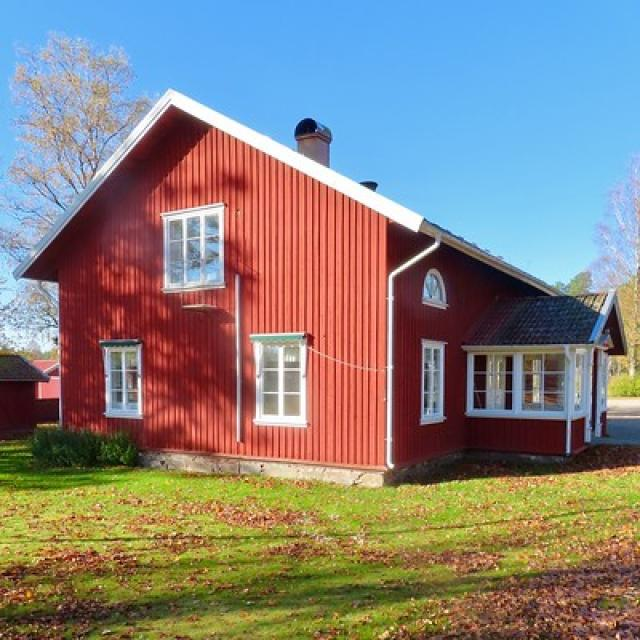building: (11, 86, 632, 493)
